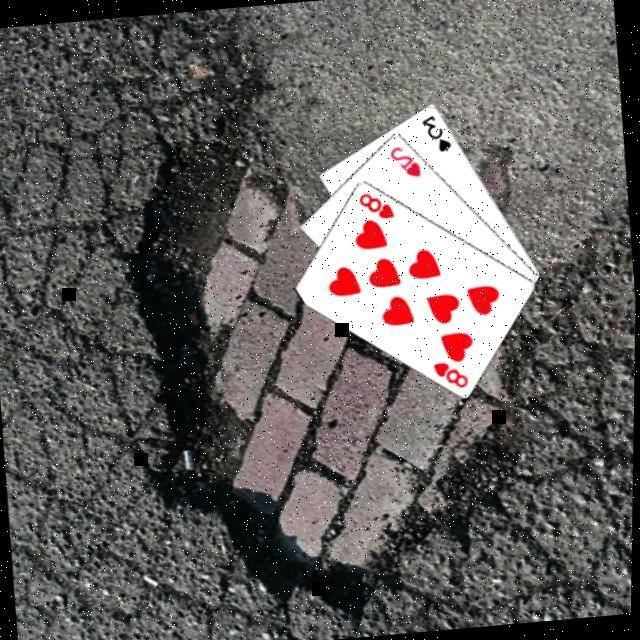2H: (385, 139, 422, 180)
3S: (416, 108, 454, 154)
8H: (353, 185, 396, 221), (428, 355, 471, 391)
